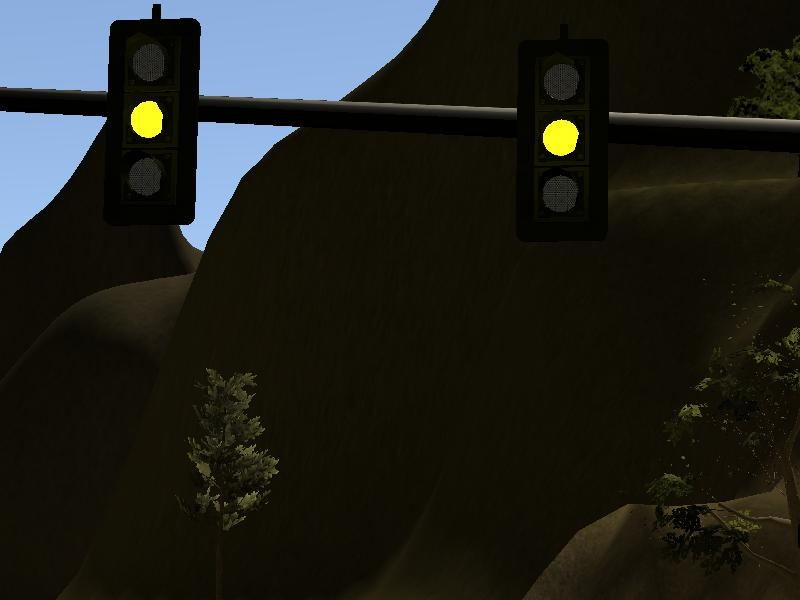yellow: (500, 24, 618, 255), (97, 6, 213, 239)
